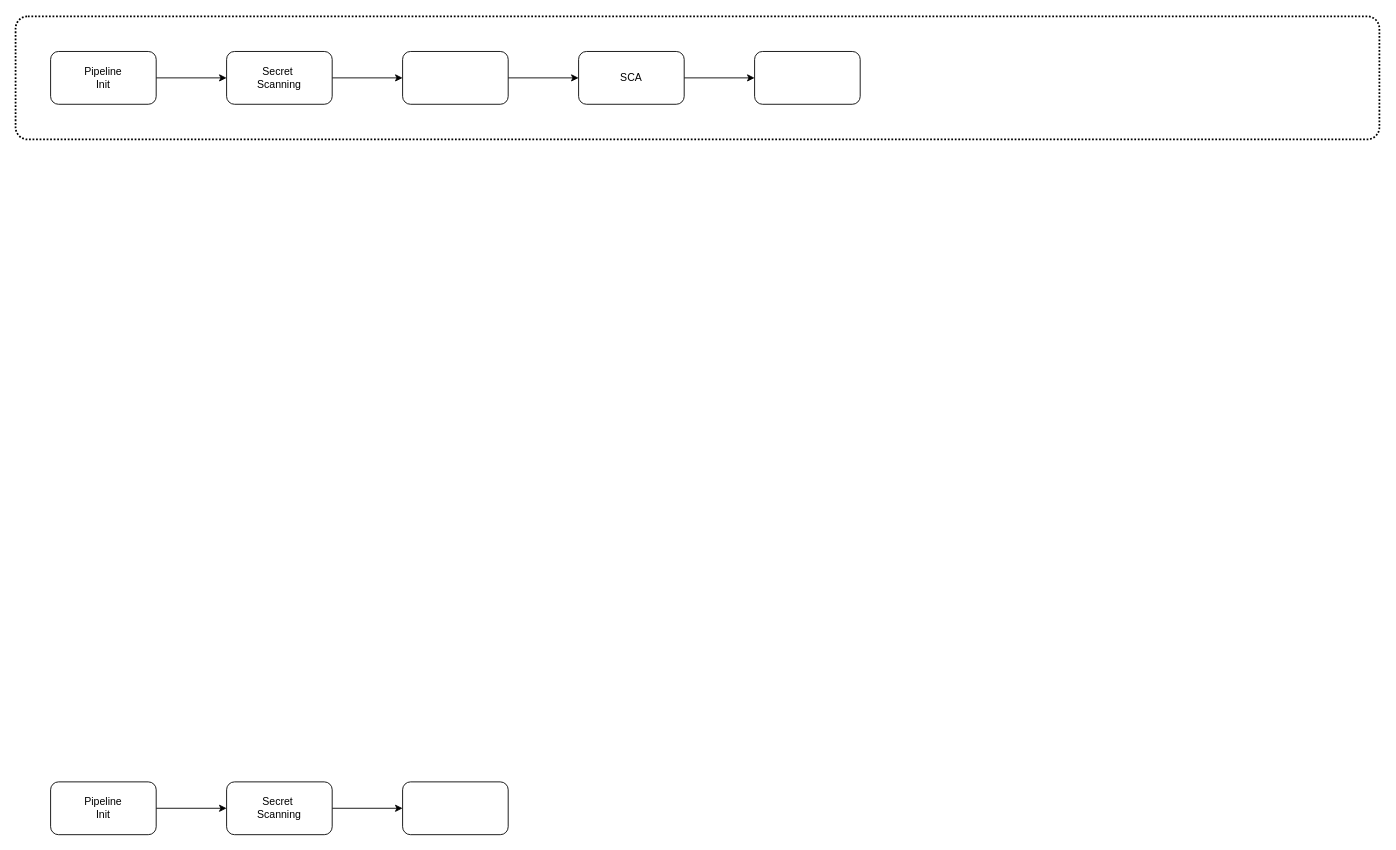
The diagram is 1396 pixels wide and 850 high, and some of its shapes have lost their labels. The box of each missing label's shape, as (x1, y1, x2, y2) in pixels:
Container Scanning: (754, 51, 860, 104)
IaC Scanning: (402, 781, 508, 835)
SAST: (402, 51, 508, 104)
